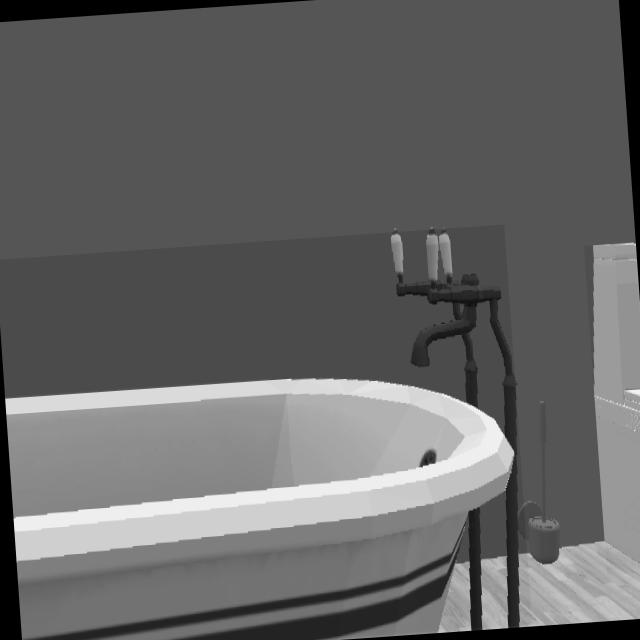bathtube: (5, 230, 518, 640)
toilet: (595, 244, 640, 560)
